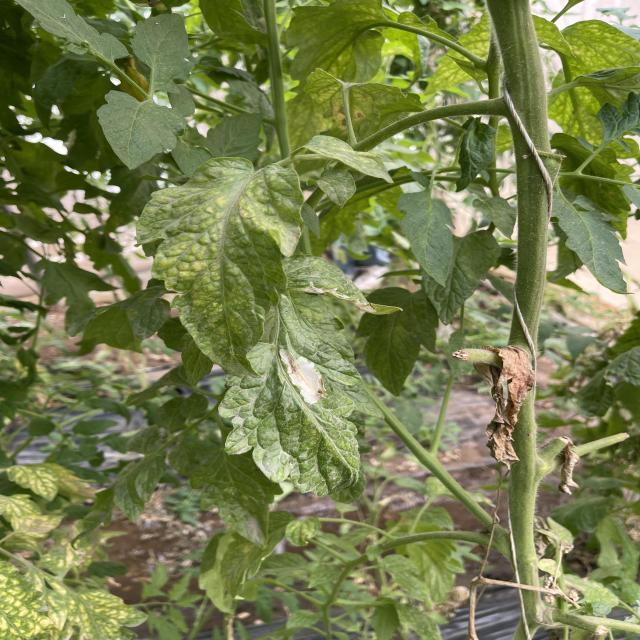Tuta absoluta: (274, 338, 332, 408)
